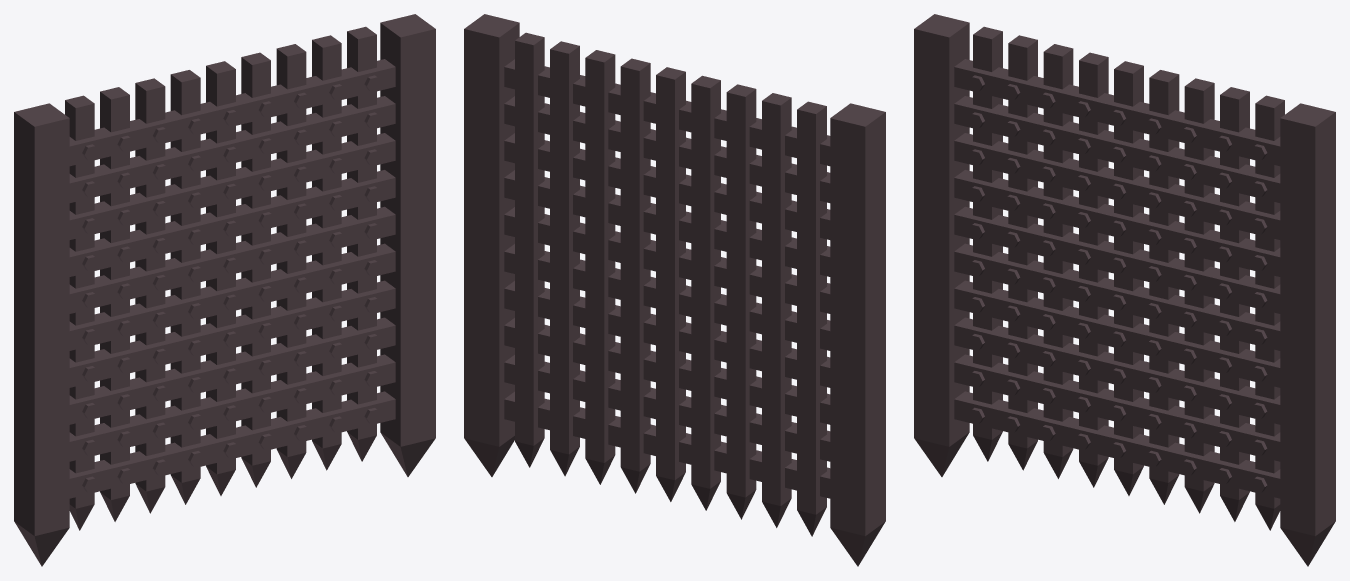
File: dropgate.glb
3 views of the same model, side by side, from view 1: azimuth 30°, elevation 25°; view 2: azimuth 150°, elevation 25°; view 3: azimuth 330°, elevation 25° (orthographic).
Parts seen in each view (by area): view 1: Cube.001; view 2: Cube.001; view 3: Cube.001.
Boxes of the visible parts, x1,y1,x2,y2 form: Cube.001: (14, 14, 435, 566); Cube.001: (464, 14, 885, 566); Cube.001: (914, 14, 1335, 566).
Size of the model in its own units: 22.74 by 24.48 by 2.
Materials: 1 (1 with a texture image).
